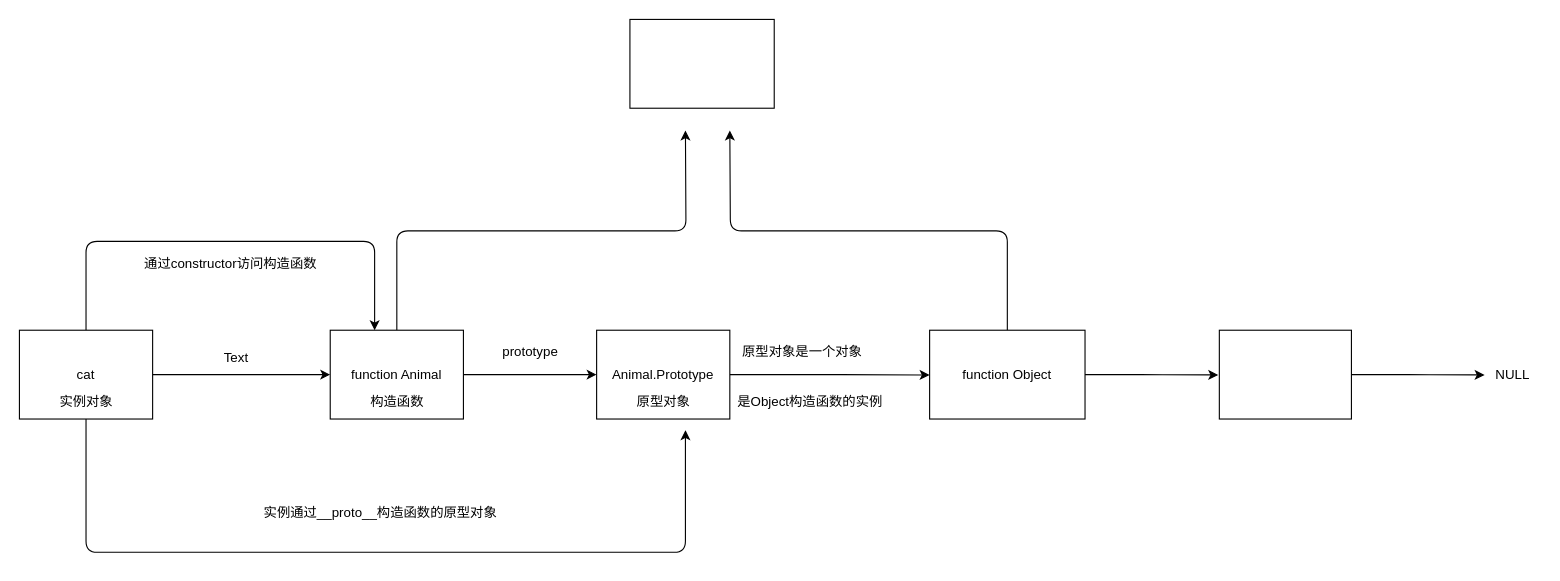
Image size: 1560x581. Some labels were removed from this diagram. The shapes that lost their labels are listed below. From the top down, each one's centre as x and y in pixels, then its label:
At [701,63]: "function Function".
At [1284,374]: "Object.Prototype".
